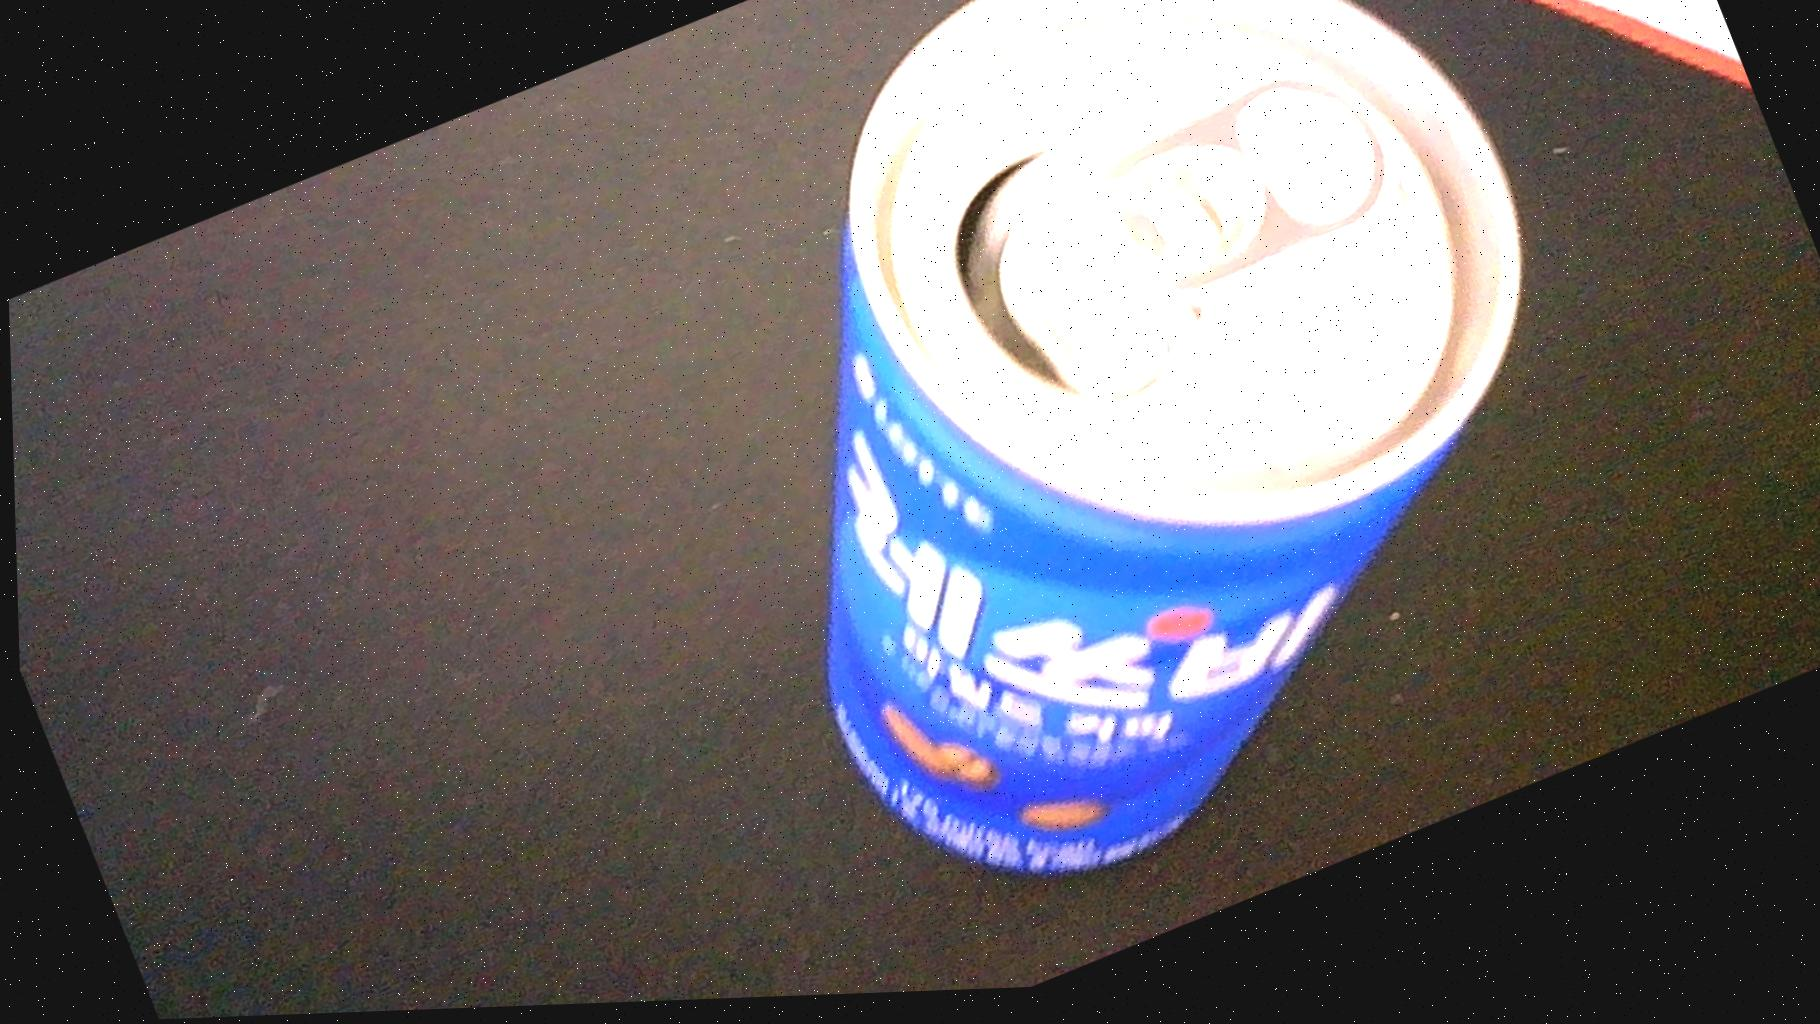letsbe: (596, 0, 1692, 961)
